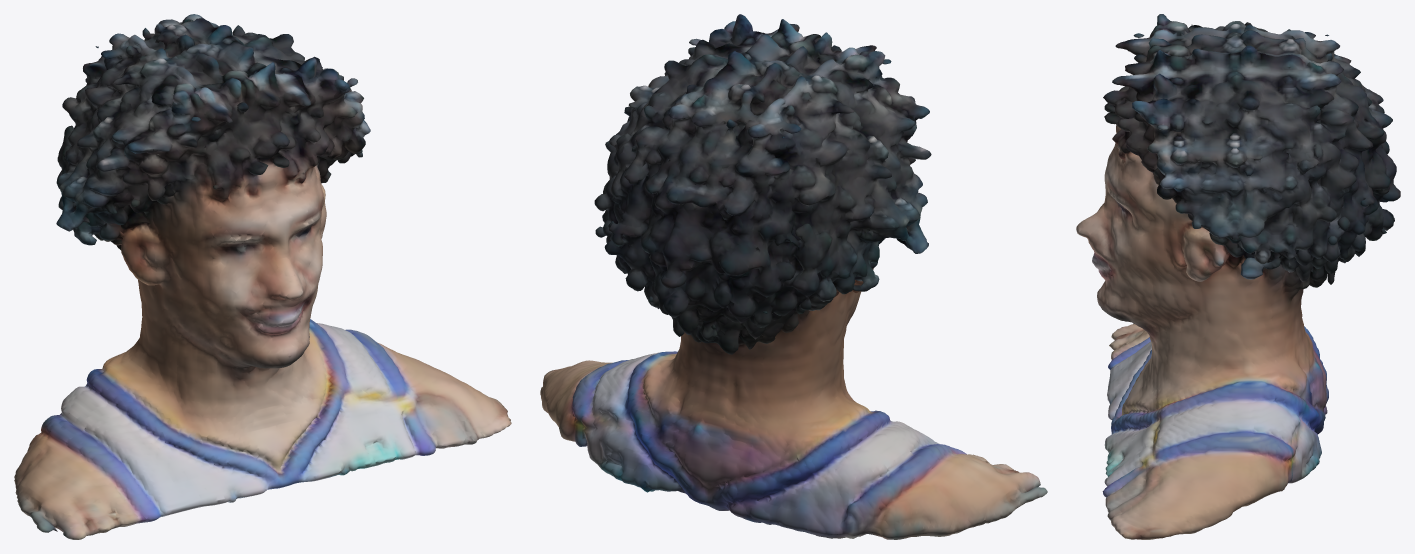
3 views of the same model, side by side, from view 1: azimuth 30°, elevation 25°; view 2: azimuth 150°, elevation 25°; view 3: azimuth 270°, elevation 25° (orthographic). The views are drawn at different scales.
Parts seen in each view (by area): view 1: geometry_0; view 2: geometry_0; view 3: geometry_0.
Part boxes in pixels (bbox=[...]): geometry_0: bbox=[14, 14, 511, 539]; geometry_0: bbox=[540, 14, 1047, 539]; geometry_0: bbox=[1076, 14, 1400, 539].
Size of the model in its own units: 1.02 by 0.8545 by 0.6342.
